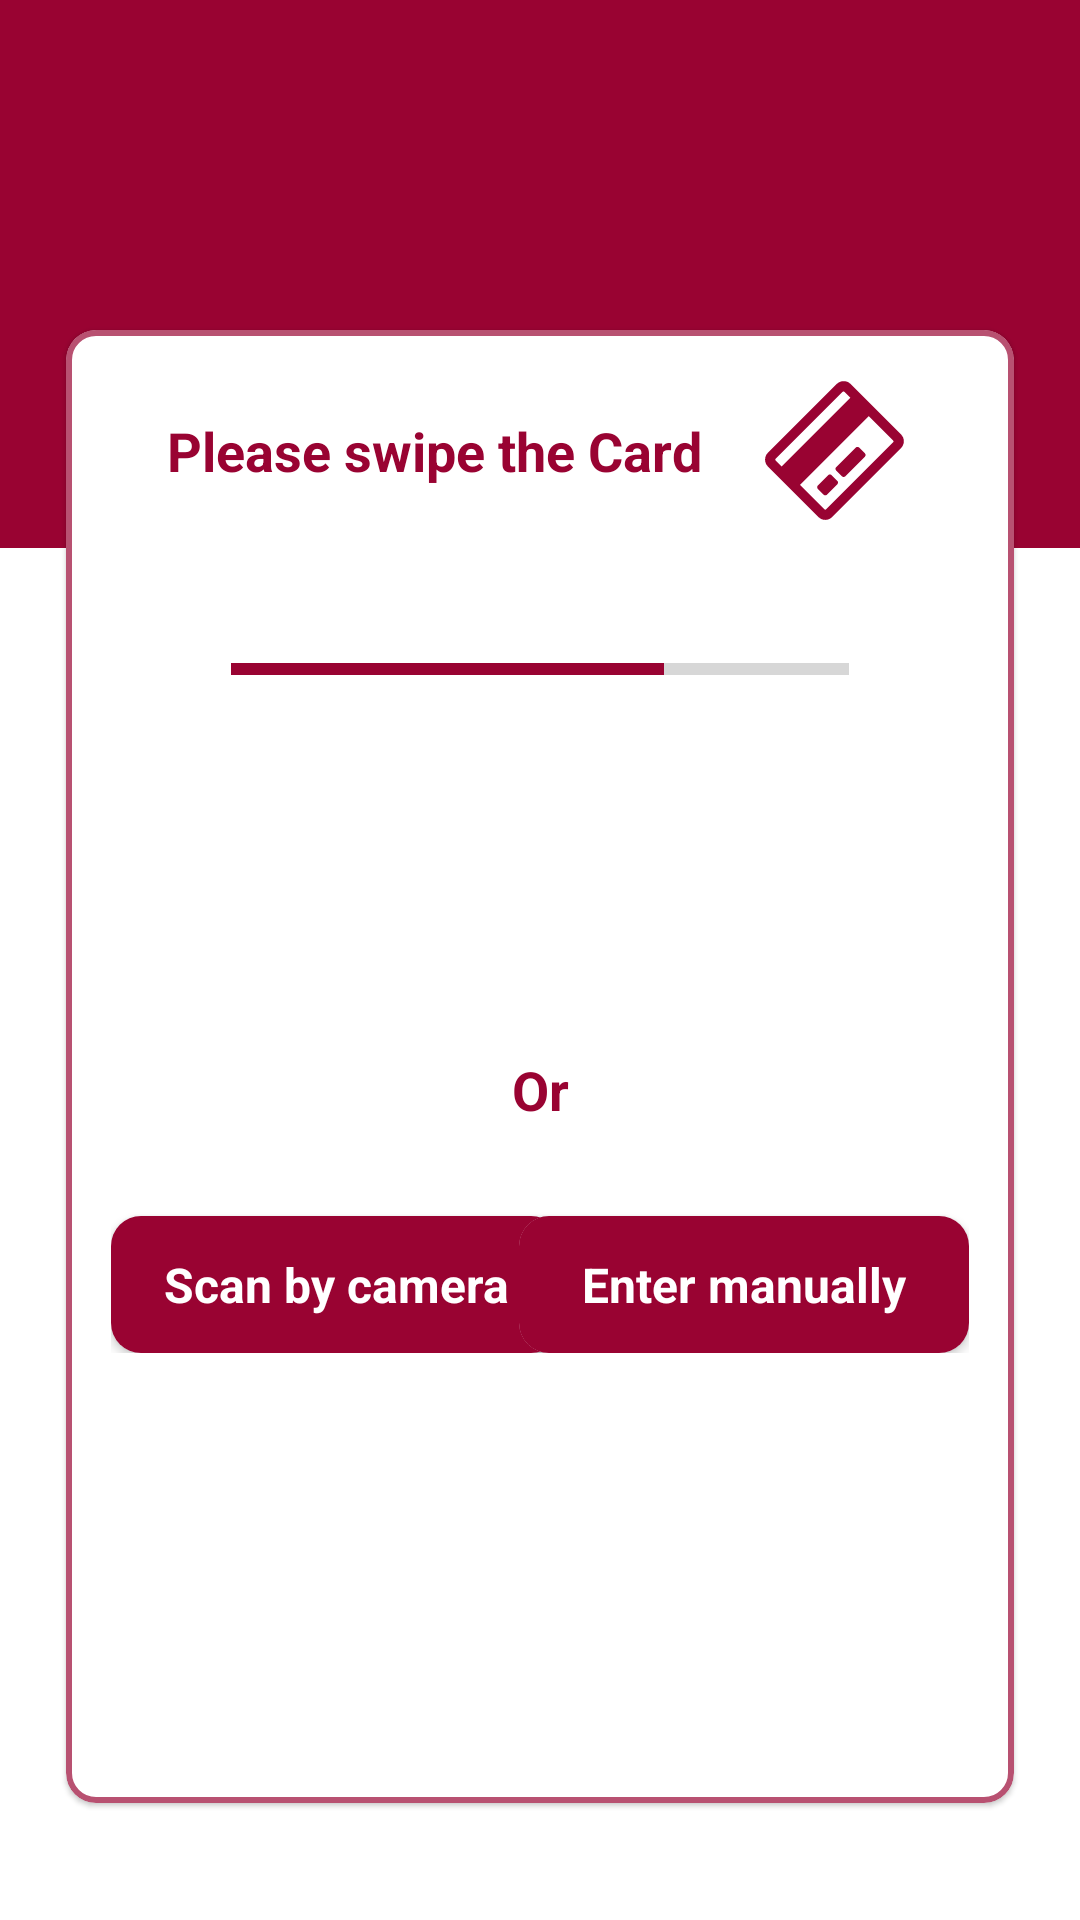

Where icons sit on this 1080 × 1920 app screen, as (x1=x1, y1=y1, x2=x2, y2=y2):
leaningcard: (x1=765, y1=381, x2=904, y2=520)
